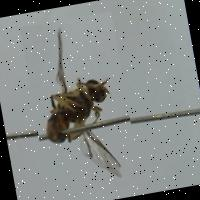Oriental-fruit-fly: (18, 9, 139, 196)
